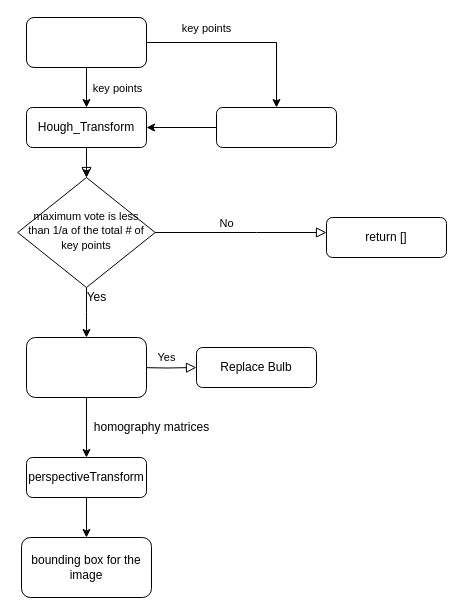
This 464x615 diagram has some shape labels left out. The shapes that lost their labels are listed below. From the top down, each one's centre as x and y in pixels, then its label:
the point at 86,42: Matching
the point at 276,127: Transform_corners
the point at 86,367: find_homography
